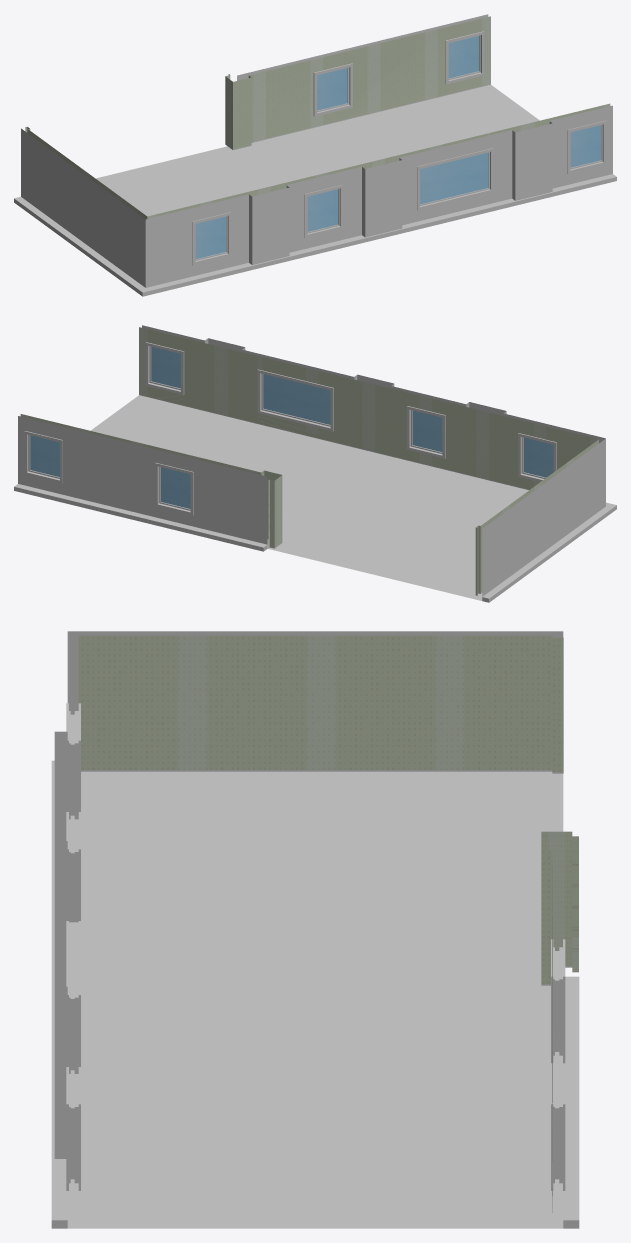
File: Floor_01_C.fbx
3 views of the same model, one above another, from view 1: azimuth 30°, elevation 25°; view 2: azimuth 150°, elevation 25°; view 3: azimuth 270°, elevation 25° (orthographic). The views are drawn at different scales.
Parts seen in each view (by area): view 1: Floor_01_C; view 2: Floor_01_C; view 3: Floor_01_C.
Boxes of the visible parts, x1=… form: Floor_01_C: x1=14, y1=14, x2=616, y2=296; Floor_01_C: x1=14, y1=325, x2=616, y2=602; Floor_01_C: x1=51, y1=631, x2=579, y2=1228.
Size of the model in its own units: 2525 by 369 by 1224.
